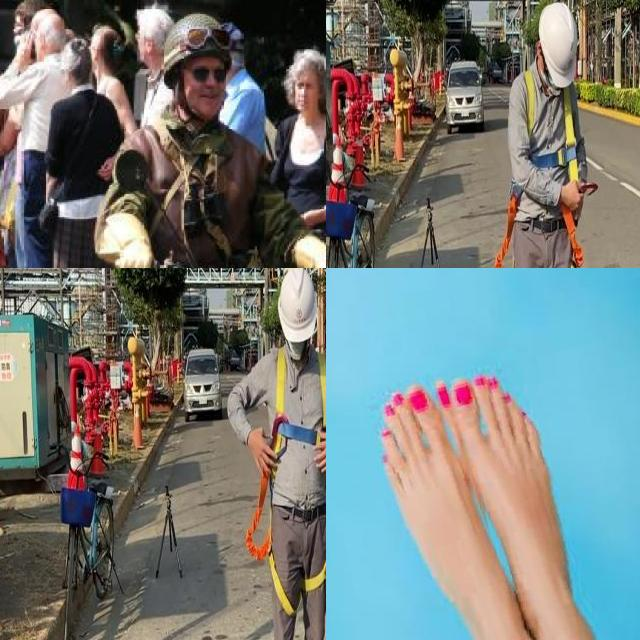Barefoots: (448, 339, 624, 640), (370, 365, 542, 640)
Harness: (245, 473, 296, 616), (523, 69, 581, 182), (272, 347, 326, 455), (495, 188, 521, 268), (561, 205, 585, 268), (304, 563, 326, 593), (530, 90, 535, 120)
face_nomask: (191, 63, 230, 111), (293, 77, 319, 111)
glasses: (180, 62, 226, 85)
hand_glove: (104, 235, 158, 268)
hand_noglove: (13, 28, 42, 63), (98, 156, 118, 180)
head_helmet: (147, 13, 241, 76)
head_nohelmet: (288, 39, 326, 82), (62, 36, 93, 65), (36, 11, 68, 39)
person: (116, 15, 259, 268), (47, 37, 106, 268), (271, 45, 326, 268)
